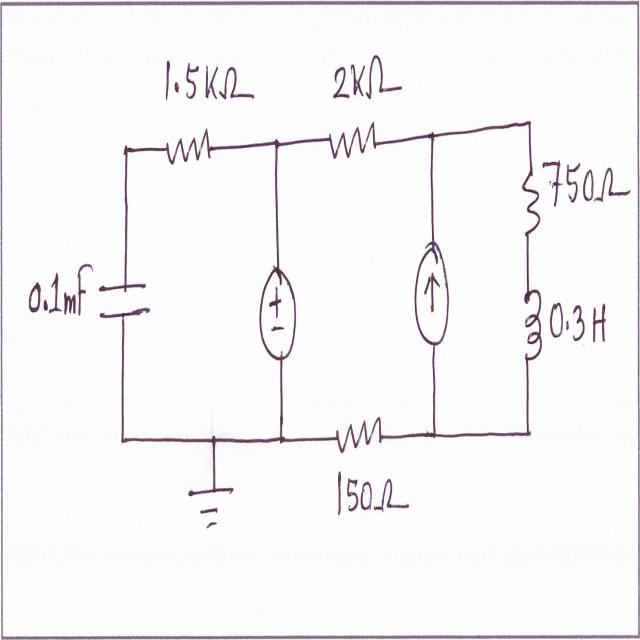capacitor: (97, 274, 154, 325)
current_source: (411, 229, 454, 364)
ground: (184, 474, 243, 536)
inductor: (518, 284, 544, 371)
resistor: (326, 120, 380, 168), (163, 122, 214, 170), (333, 415, 386, 456), (521, 162, 543, 244)
voltage_source: (258, 261, 303, 374)
